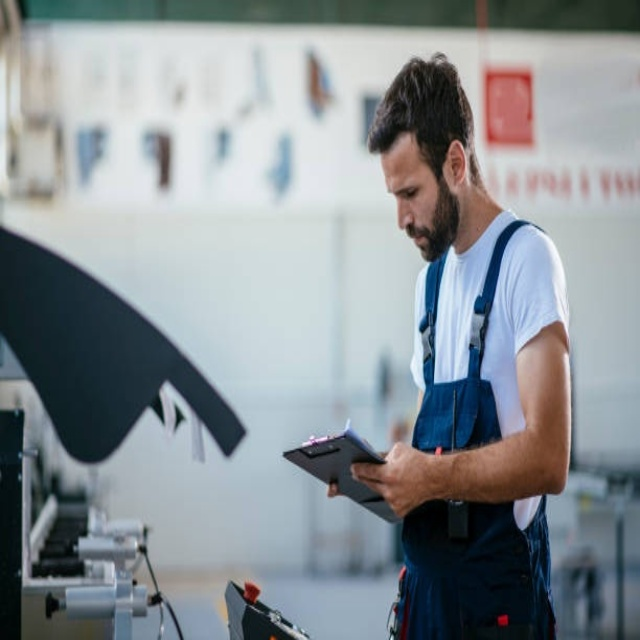Sin_gafas: (385, 173, 426, 207)
Sin_guantes: (347, 440, 433, 518)
Sin_mascara: (404, 224, 438, 264)
